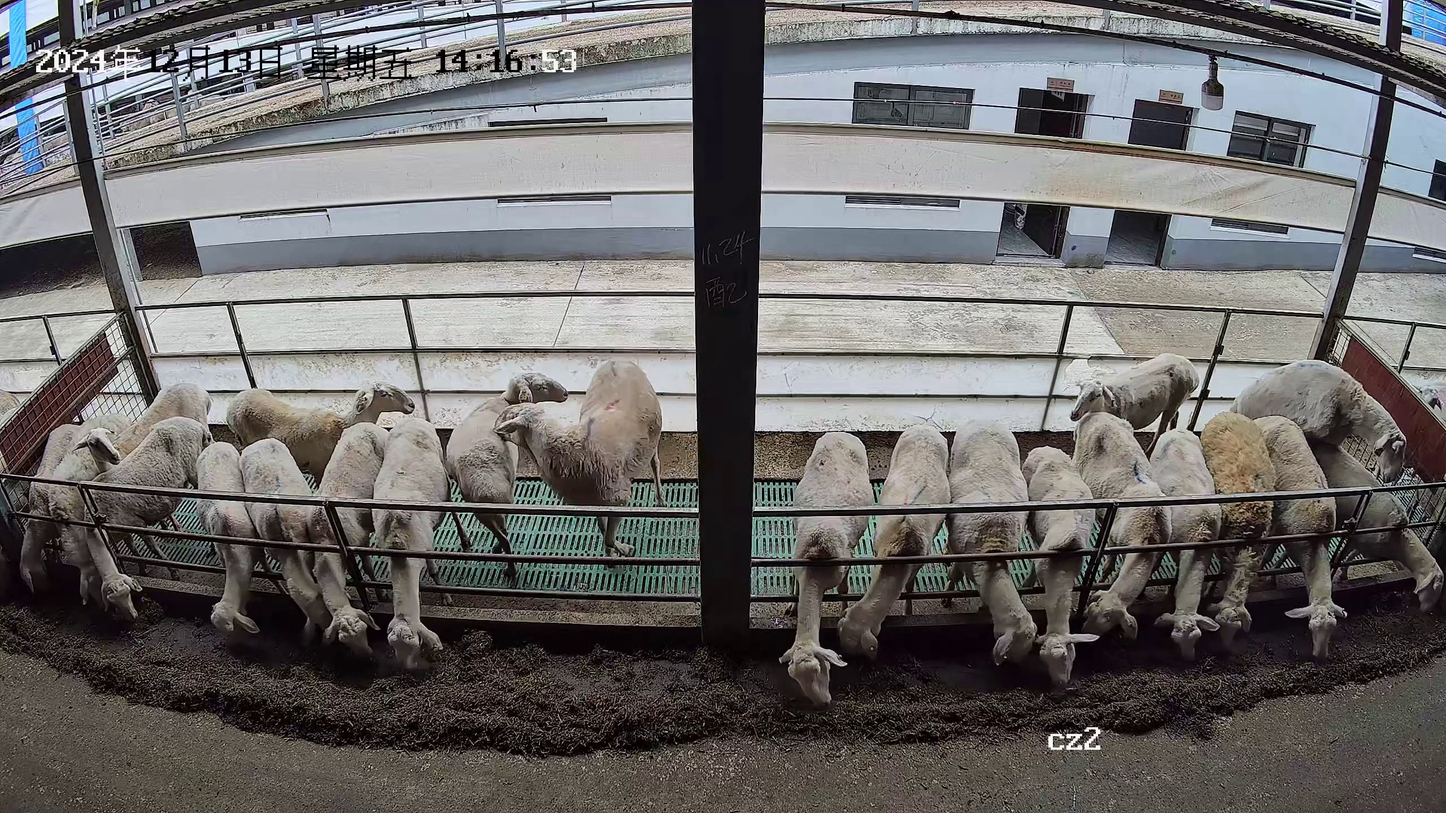Smounting: (1223, 356, 1446, 618)
mounted: (1309, 433, 1442, 614)
